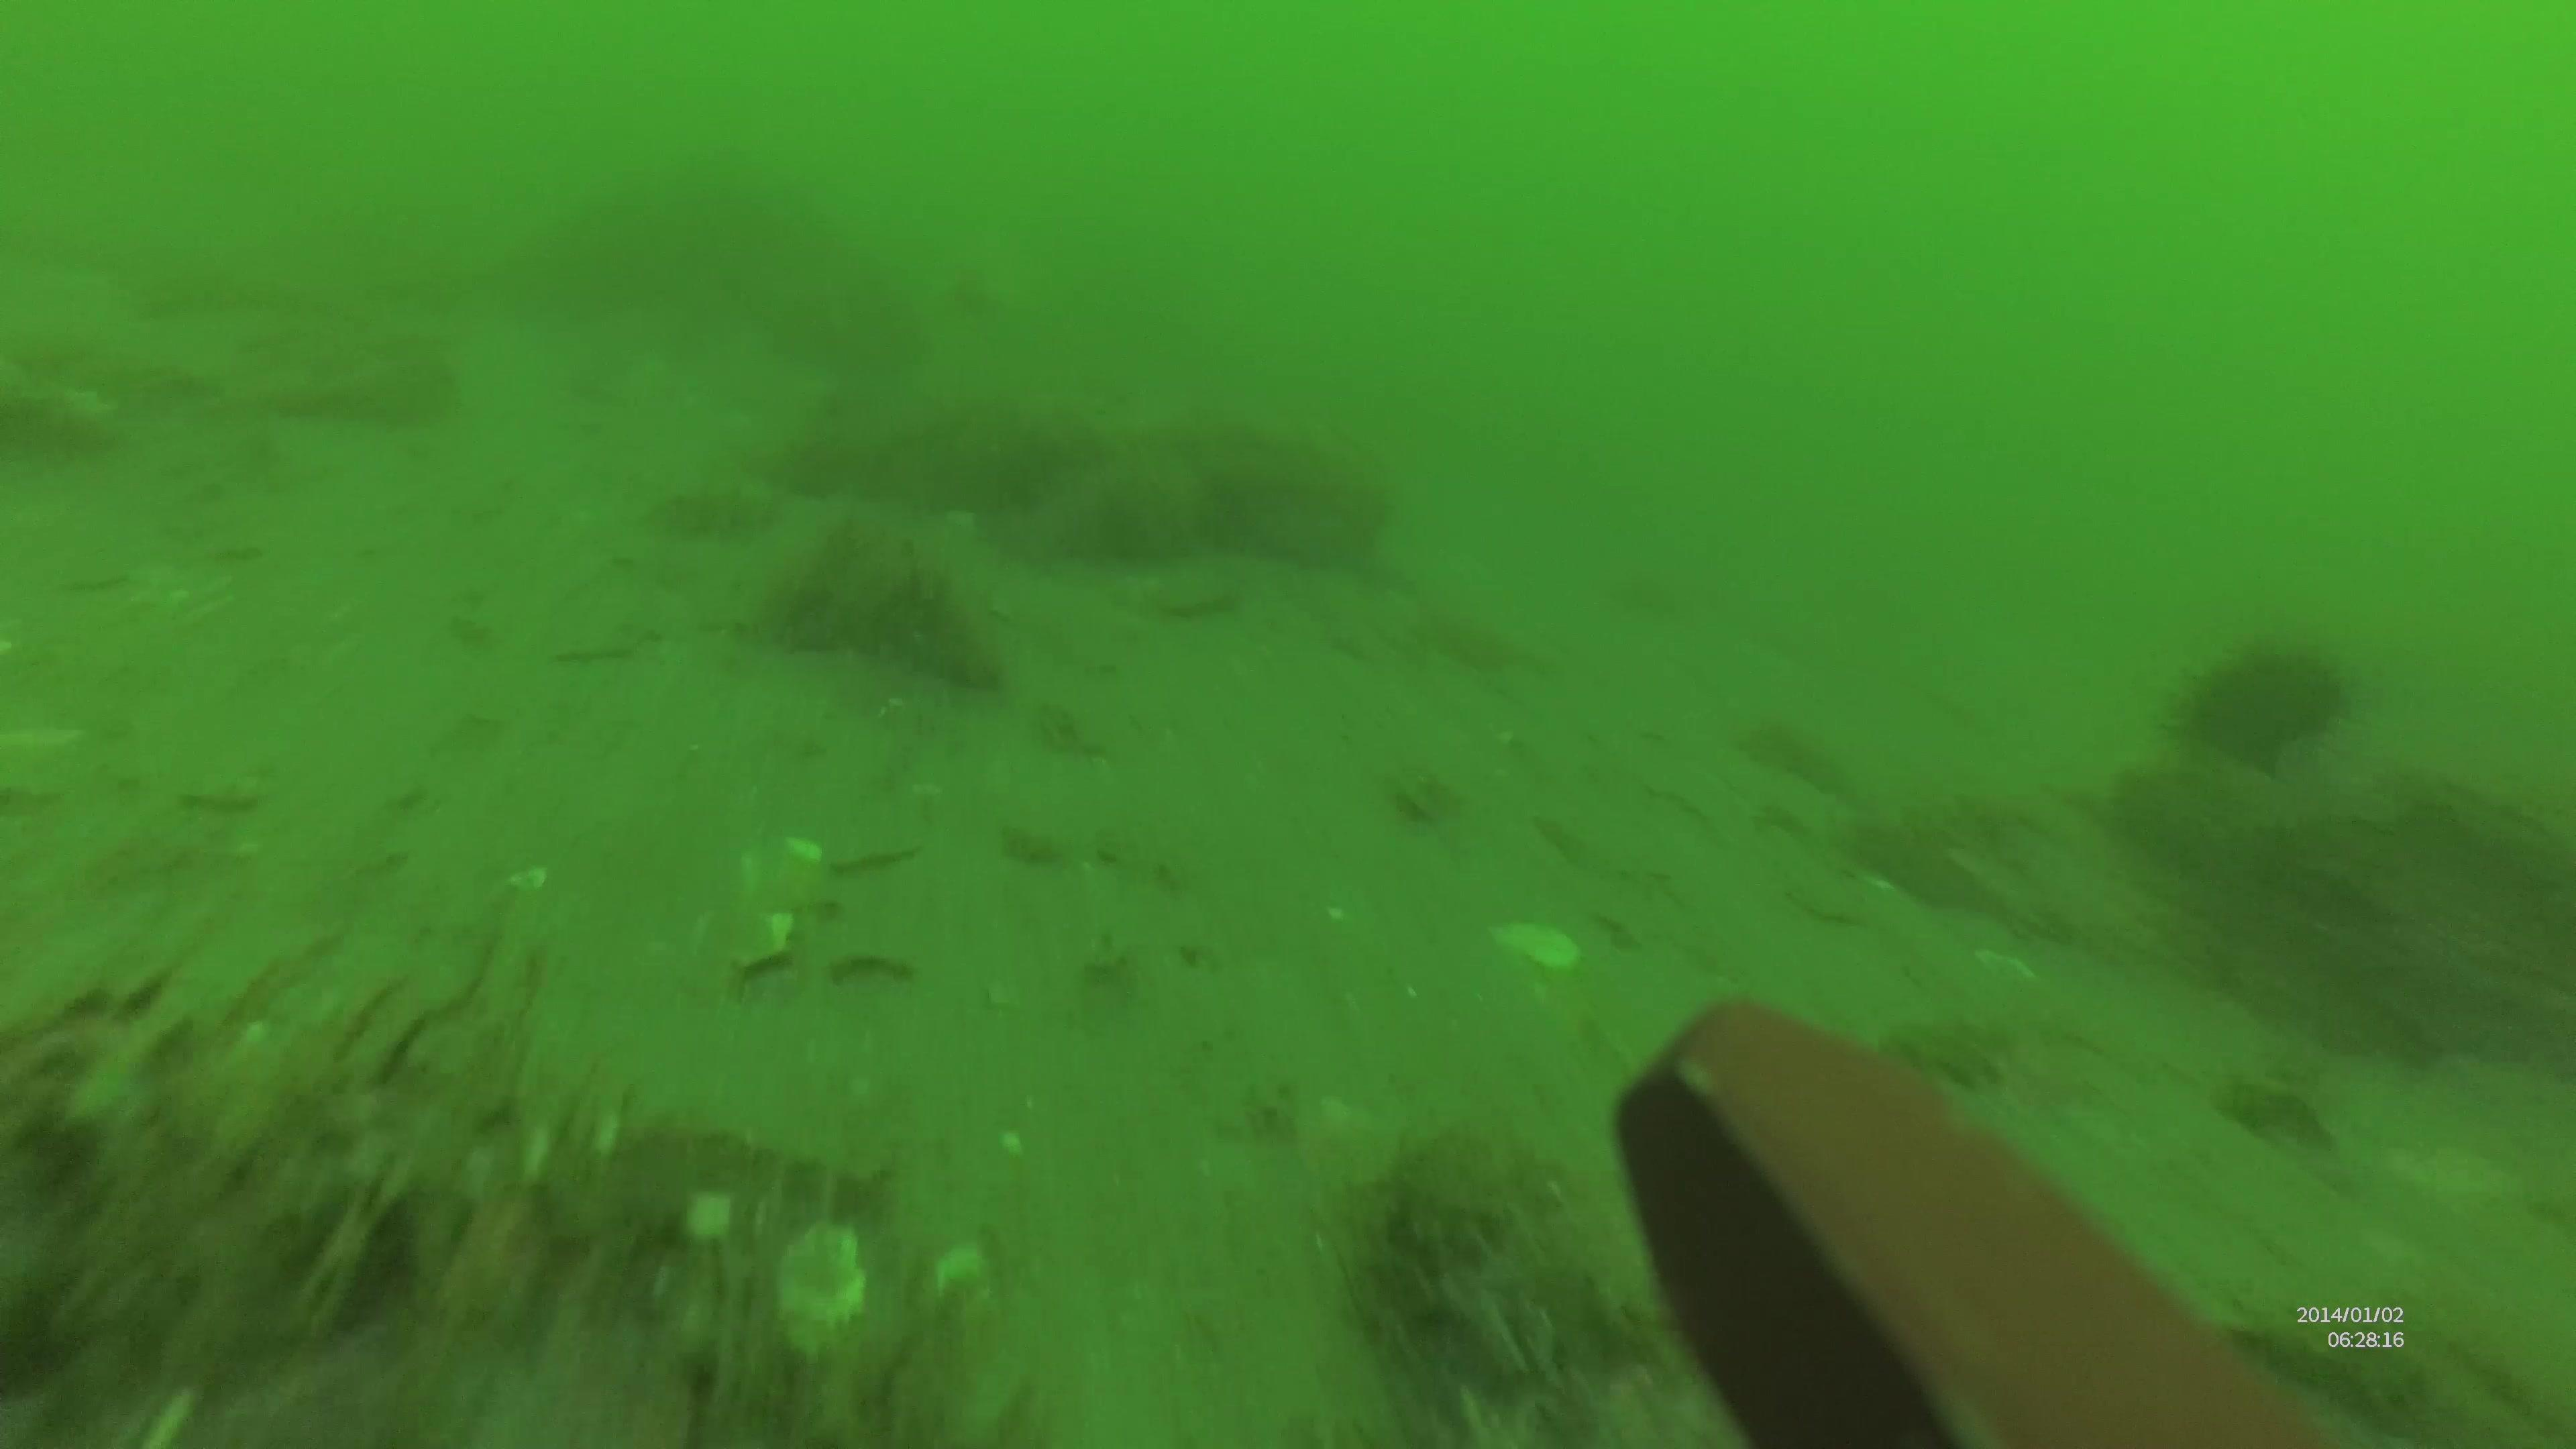echinus: (2160, 623, 2360, 773)
